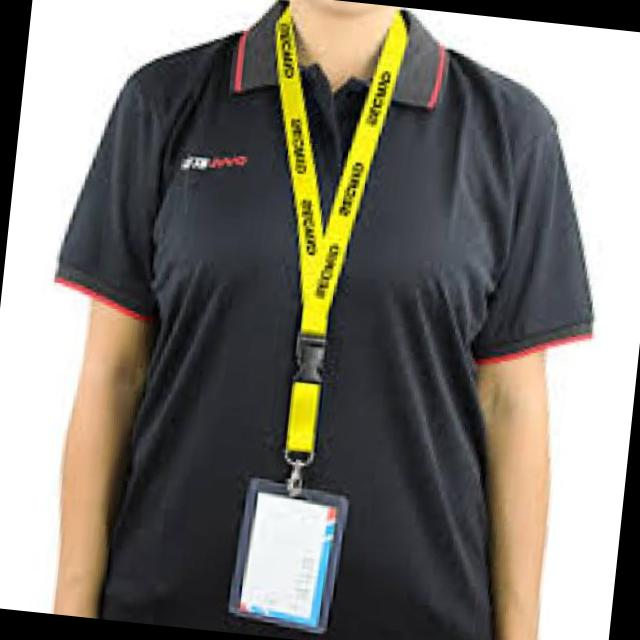id_card: (203, 2, 415, 634)
